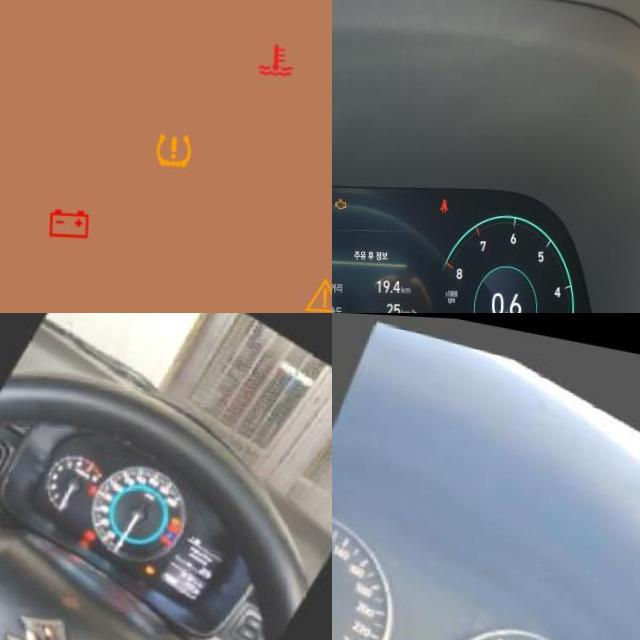Engine cooling system: (169, 522, 177, 528)
High Engine Coolant Temperature: (253, 32, 301, 81)
